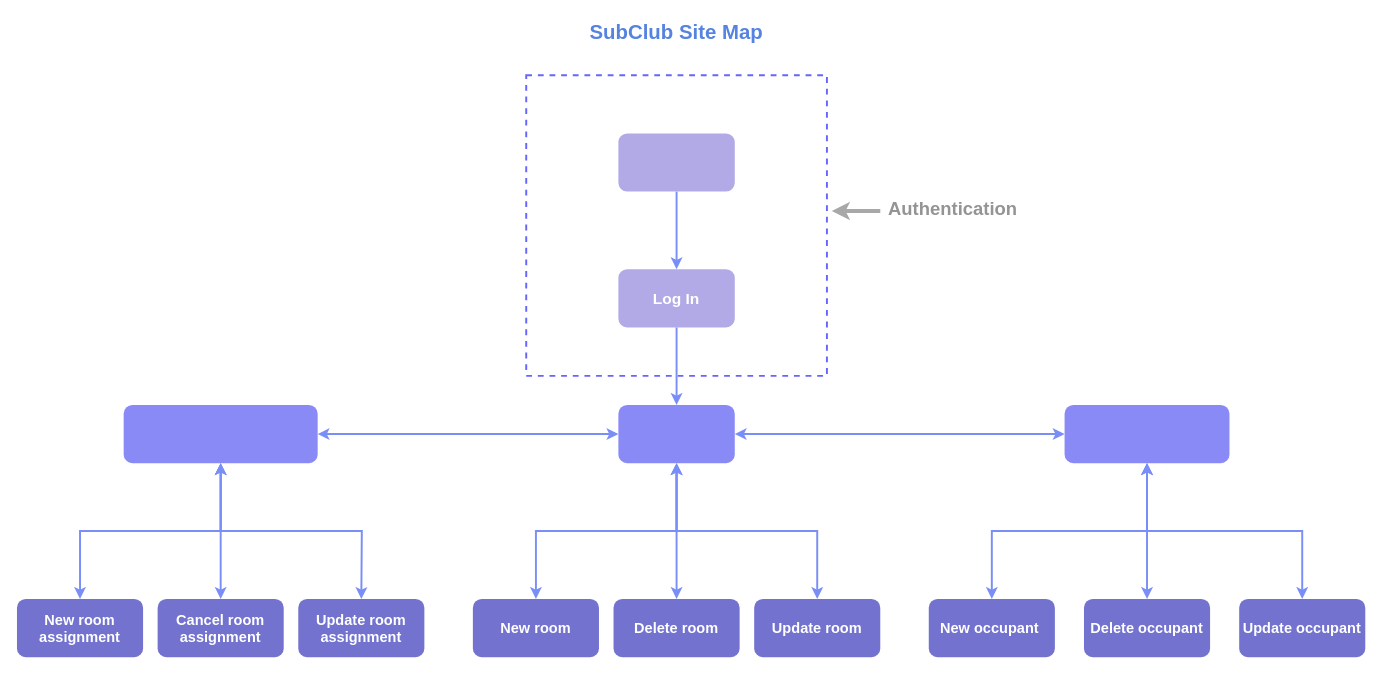
This 1381x673 diagram has some shape labels left out. The centre of each missing label's shape, as x and y in pixels:
Occupants Page: (x=1146, y=433)
Room assignments Page: (x=220, y=433)
Rooms Page: (x=676, y=433)
Sign Up: (x=676, y=162)
